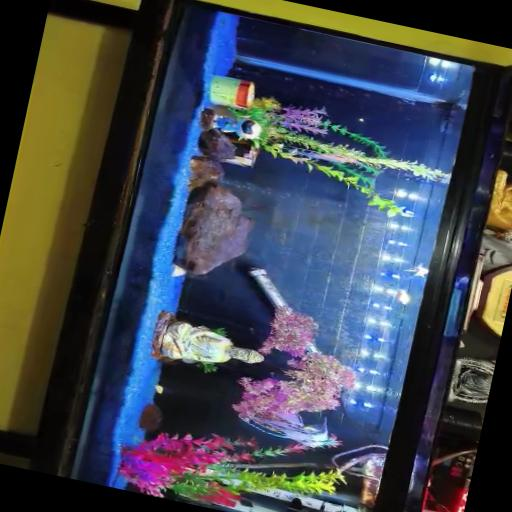Fish: (243, 414, 339, 448), (296, 151, 363, 166), (404, 265, 427, 277), (395, 289, 409, 304), (154, 385, 162, 393)
